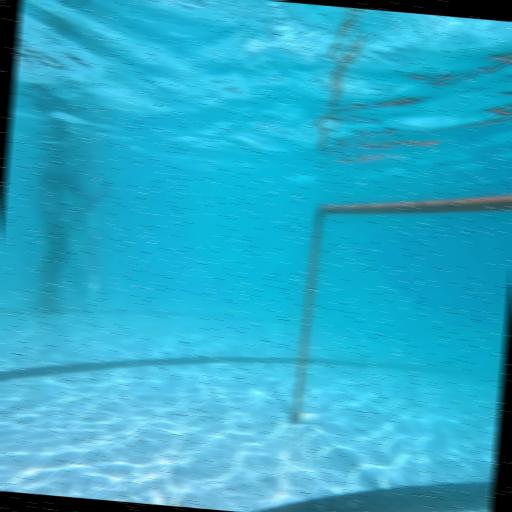gate: (289, 174, 512, 441)
